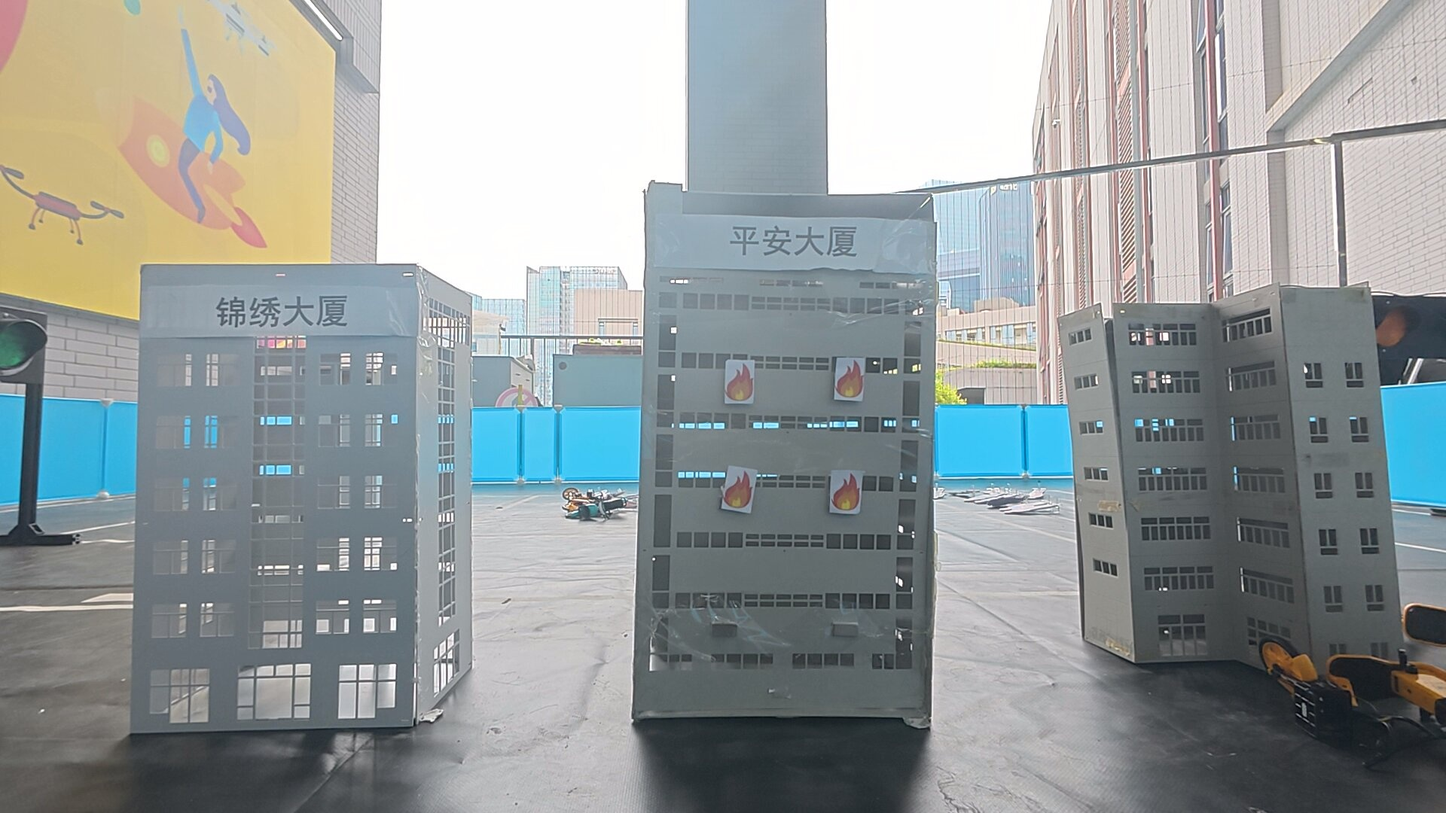fire: (721, 466, 758, 514), (829, 469, 866, 515), (723, 358, 758, 404), (832, 357, 867, 400)
